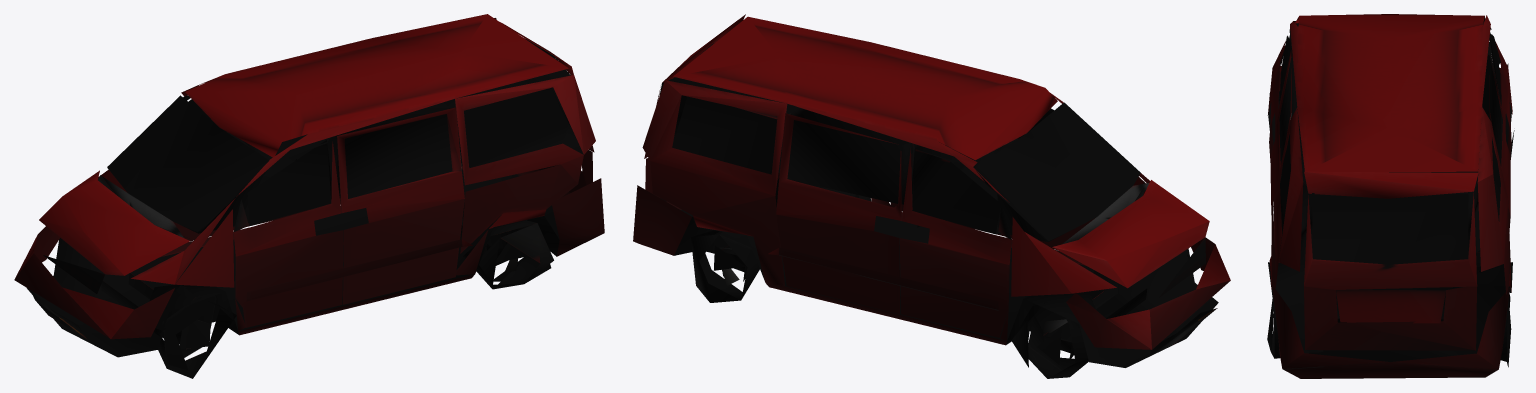
Rendered from car1Low.obj.
3 views of the same model, side by side, from view 1: azimuth 30°, elevation 25°; view 2: azimuth 150°, elevation 25°; view 3: azimuth 270°, elevation 25° (orthographic). The views are drawn at different scales.
Size of the model in its own units: 4.61 by 1.8 by 1.81.
Materials: 1 (1 with a texture image).
